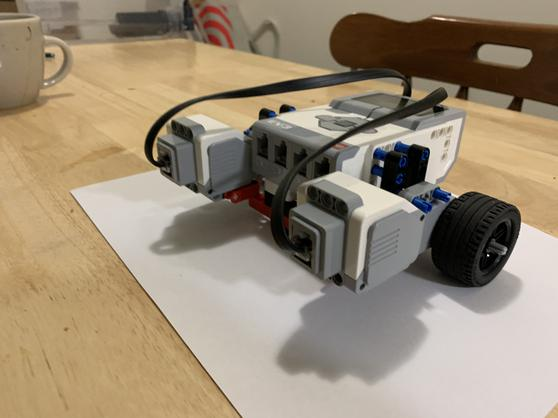robot: (147, 59, 522, 306)
